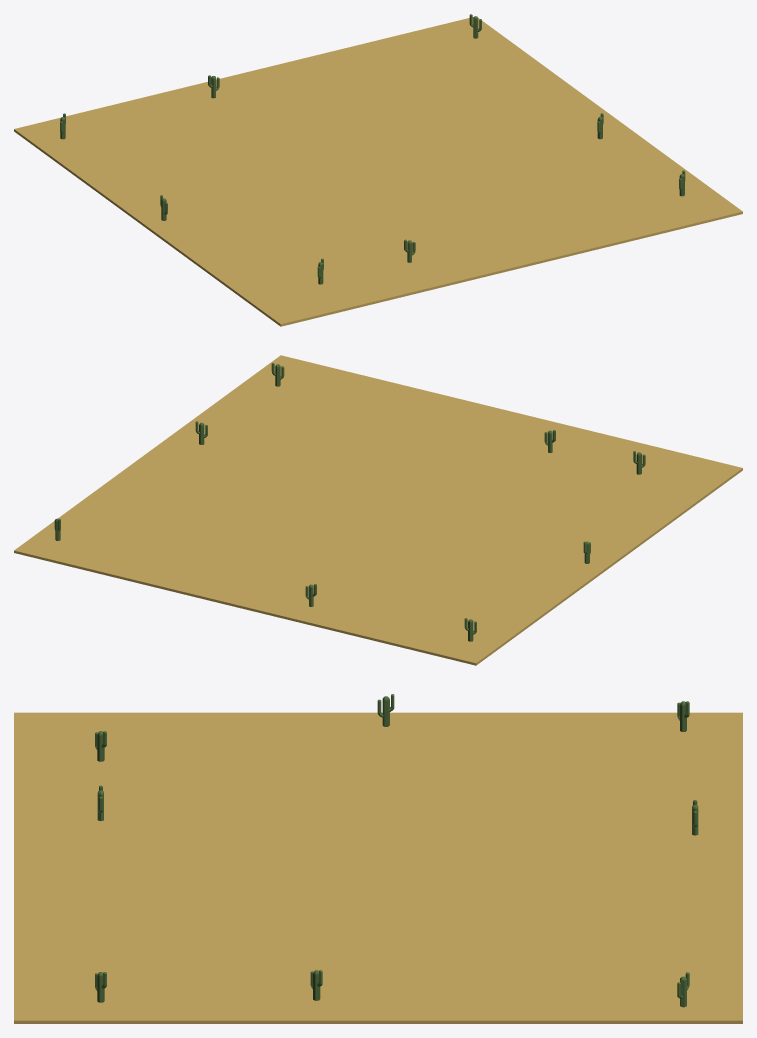
Rendered from Desert.fbx.
3 views of the same model, one above another, from view 1: azimuth 30°, elevation 25°; view 2: azimuth 150°, elevation 25°; view 3: azimuth 270°, elevation 25° (orthographic). The views are drawn at different scales.
Visible parts, largest first — view 1: Cube; view 2: Cube; view 3: Cube.
Boxes of the visible parts, bbox=[...] form: Cube: bbox=[14, 17, 742, 326]; Cube: bbox=[14, 355, 742, 665]; Cube: bbox=[14, 712, 742, 1023].
Bounding box in the file's own units: 20000 × 1045 × 20000.
